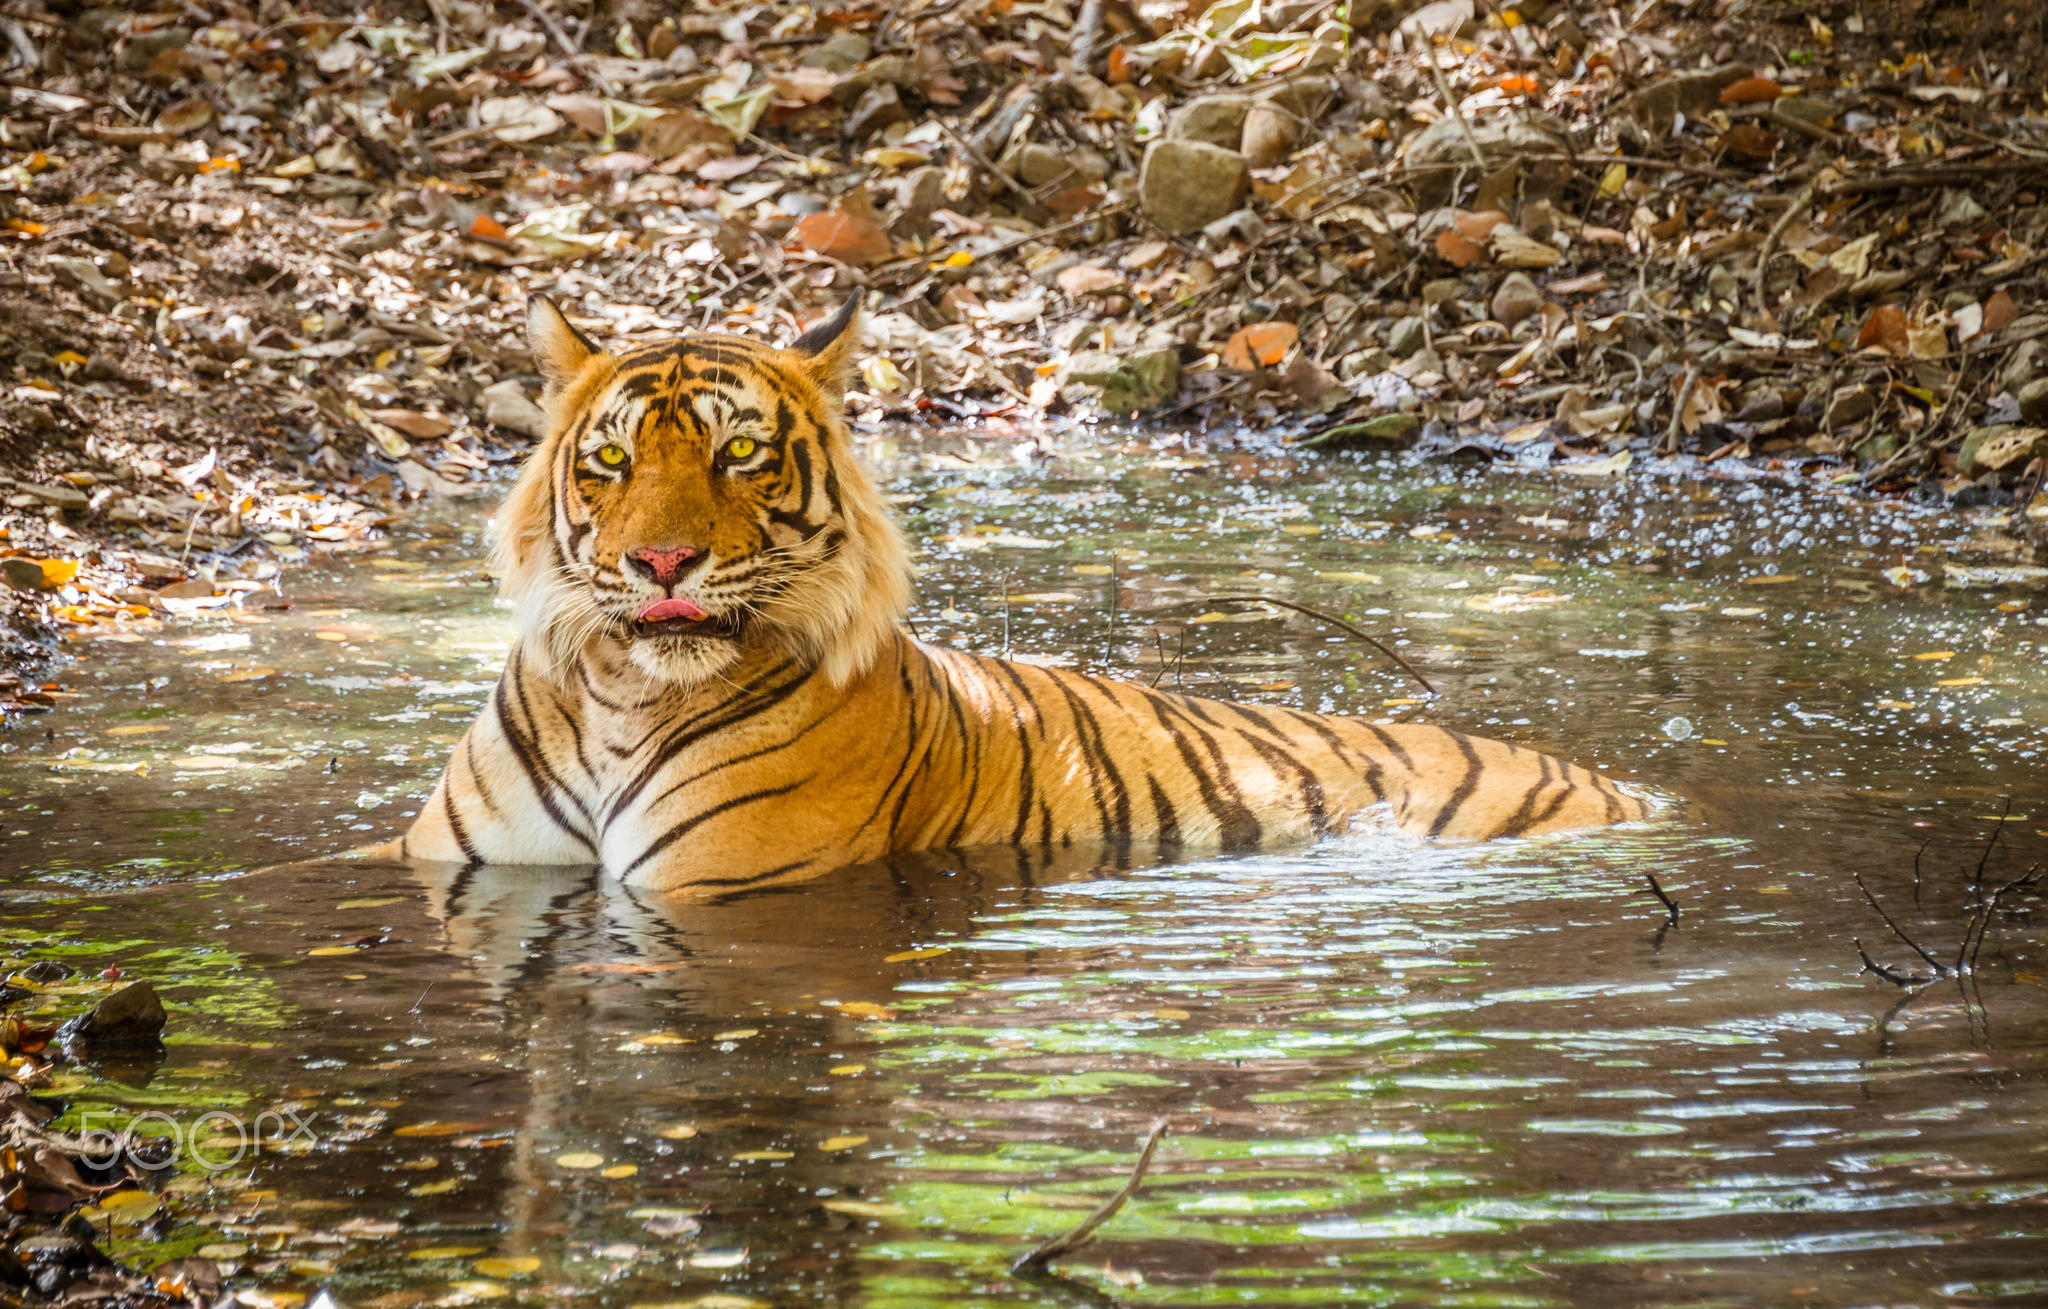tiger: (400, 307, 1751, 991)
